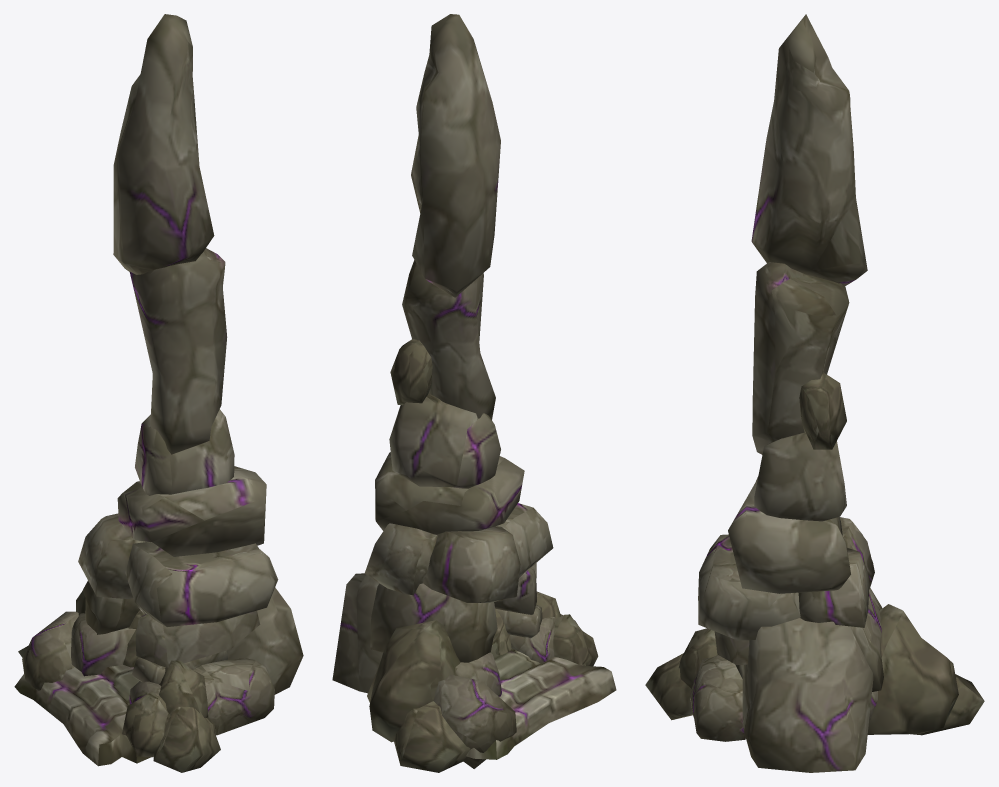
File: DN_gh_tower02.FBX
3 renders of one model, left to right at view 1: azimuth 30°, elevation 25°; view 2: azimuth 150°, elevation 25°; view 3: azimuth 270°, elevation 25°, orthographic. The views are drawn at different scales.
Parts seen in each view (by area): view 1: DN_gh_tower02; view 2: DN_gh_tower02; view 3: DN_gh_tower02.
Boxes of the visible parts, x1,y1,x2,y2 form: DN_gh_tower02: (14, 14, 303, 772); DN_gh_tower02: (332, 14, 616, 772); DN_gh_tower02: (645, 14, 984, 772).
Bounding box in the file's own units: 875 × 2639 × 1109.
